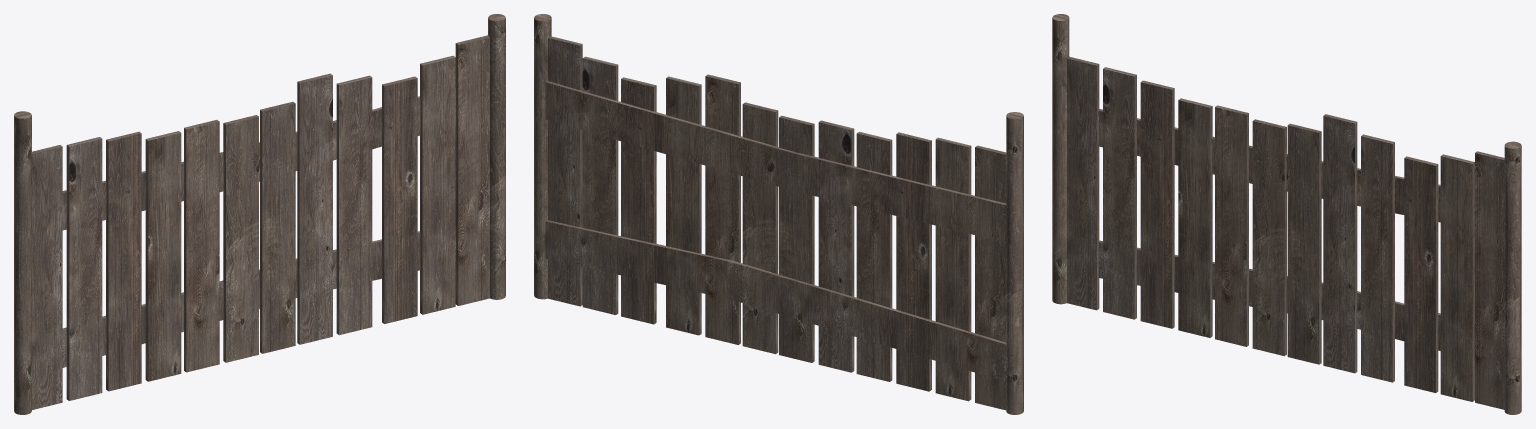
Rendered from Fence01.fbx.
3 renders of one model, left to right at view 1: azimuth 30°, elevation 25°; view 2: azimuth 150°, elevation 25°; view 3: azimuth 330°, elevation 25°, orthographic. The views are drawn at different scales.
Visible parts, largest first — view 1: Fence01; view 2: Fence01; view 3: Fence01.
Boxes of the visible parts, x1=… form: Fence01: x1=14, y1=14, x2=505, y2=414; Fence01: x1=534, y1=14, x2=1023, y2=414; Fence01: x1=1052, y1=14, x2=1521, y2=414.
Size of the model in its own units: 374 by 216 by 12.45.
